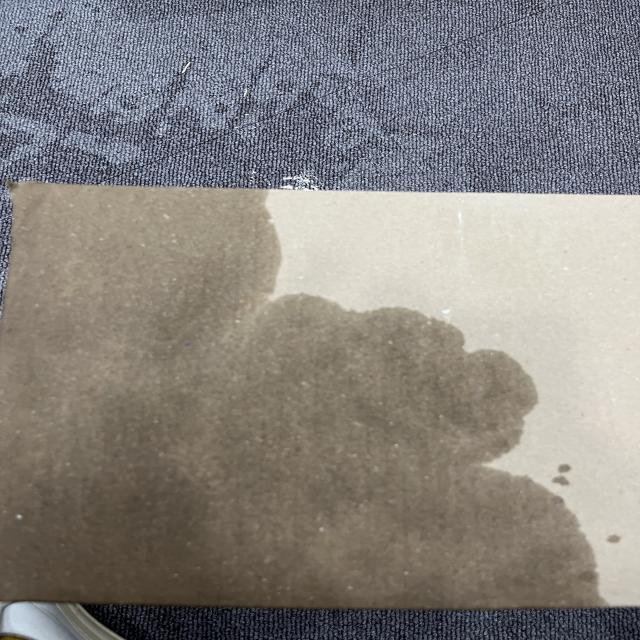wet: (0, 183, 605, 607)
